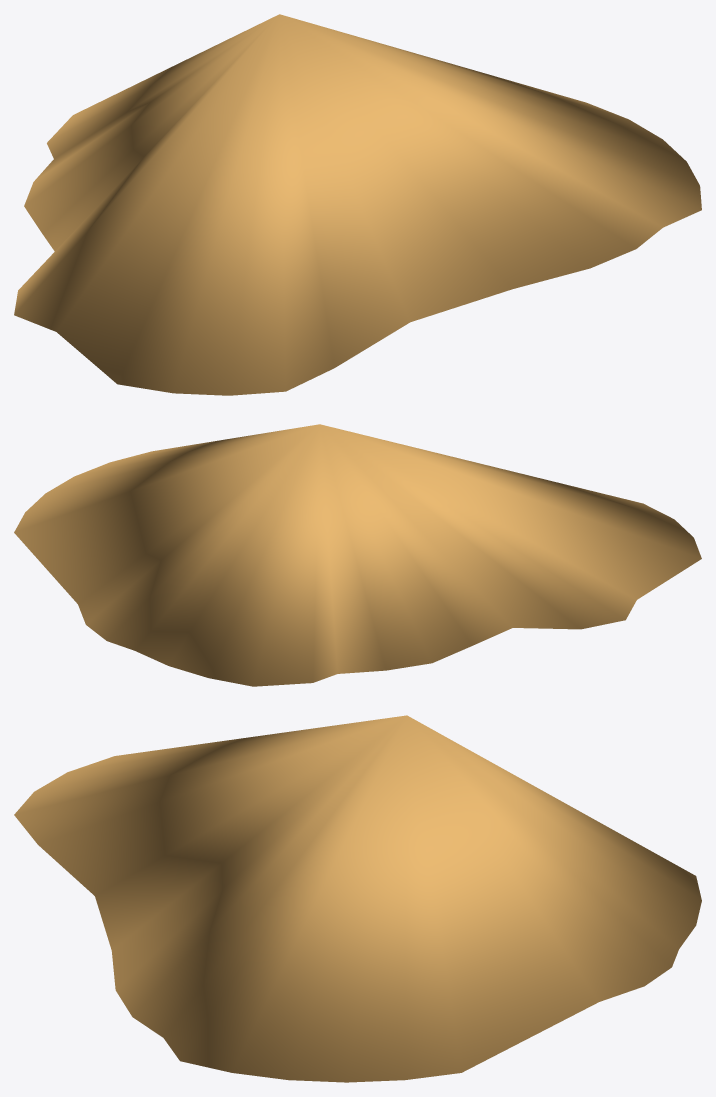
Rendered from sandOne.fbx.
The picture shows the model from 3 angles, top to bottom: view 1: azimuth 30°, elevation 25°; view 2: azimuth 150°, elevation 25°; view 3: azimuth 270°, elevation 25°; orthographic projection. The views are drawn at different scales.
Parts seen in each view (by area): view 1: Cone.001; view 2: Cone.001; view 3: Cone.001.
Boxes of the visible parts, box(x1,y1,x2,y2) form: Cone.001: box(14, 14, 701, 395); Cone.001: box(14, 424, 701, 686); Cone.001: box(14, 715, 701, 1082).
Bounding box in the file's own units: 260 × 70.67 × 229.
